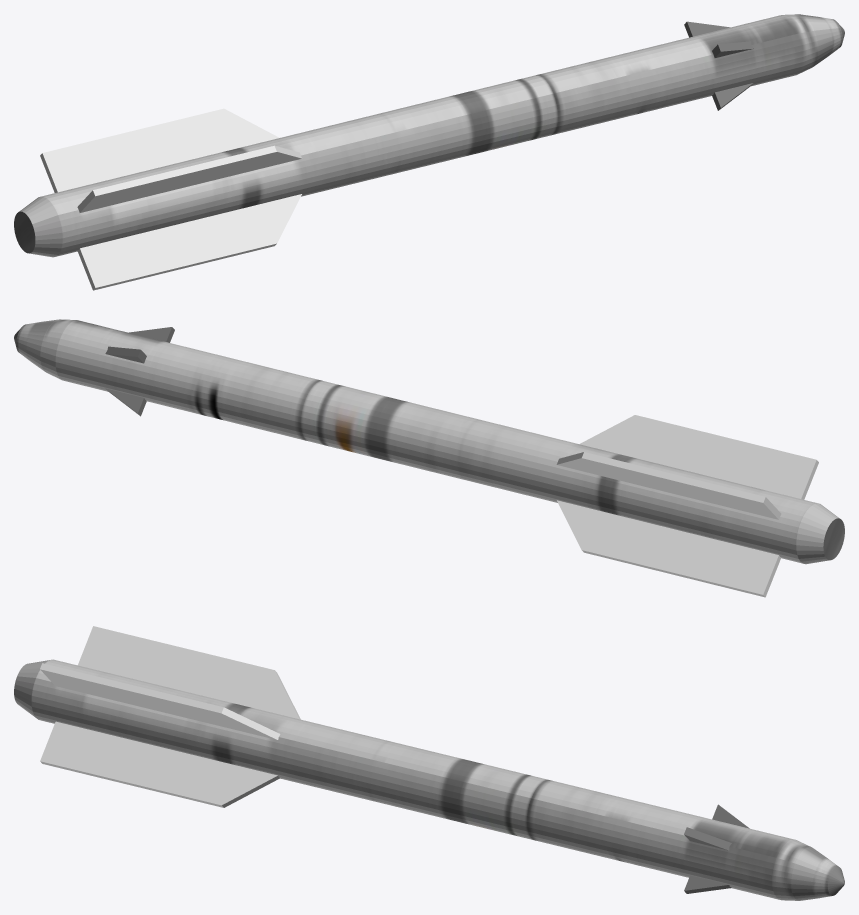
3 renders of one model, top to bottom at view 1: azimuth 30°, elevation 25°; view 2: azimuth 150°, elevation 25°; view 3: azimuth 330°, elevation 25°, orthographic.
Parts seen in each view (by area): view 1: 円柱.028; view 2: 円柱.028; view 3: 円柱.028.
Boxes of the visible parts, box(x1,y1,x2,y2) form: 円柱.028: box(14, 14, 844, 290); 円柱.028: box(14, 319, 844, 597); 円柱.028: box(14, 626, 844, 900).
Size of the model in its own units: 3.52 by 0.4148 by 0.4148.
2 materials, 1 textured.
